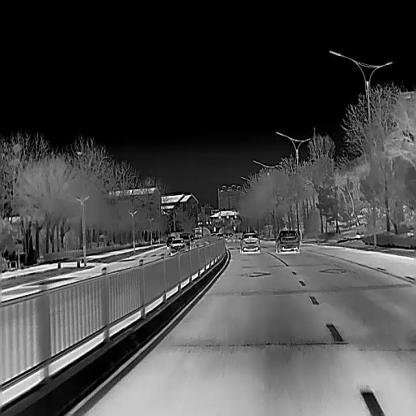car: (274, 229, 299, 253), (239, 232, 260, 254), (178, 232, 194, 251), (170, 237, 186, 255), (165, 235, 176, 247)
